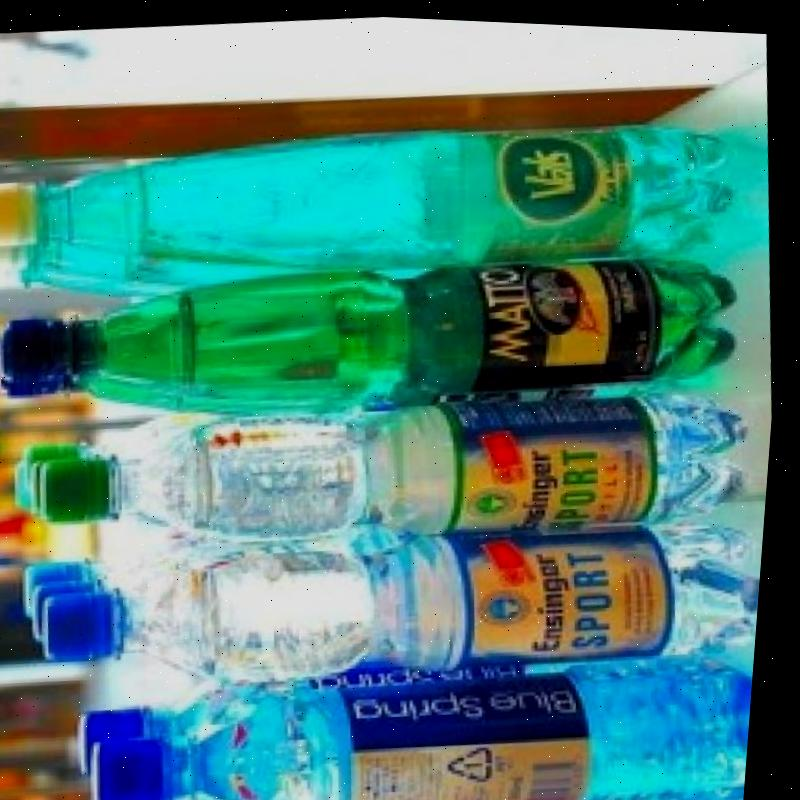botella: (0, 213, 748, 447), (41, 481, 772, 715), (0, 82, 742, 309), (41, 353, 760, 573), (91, 625, 764, 800), (82, 622, 738, 798), (30, 536, 247, 652), (22, 410, 194, 509), (31, 544, 182, 615)
